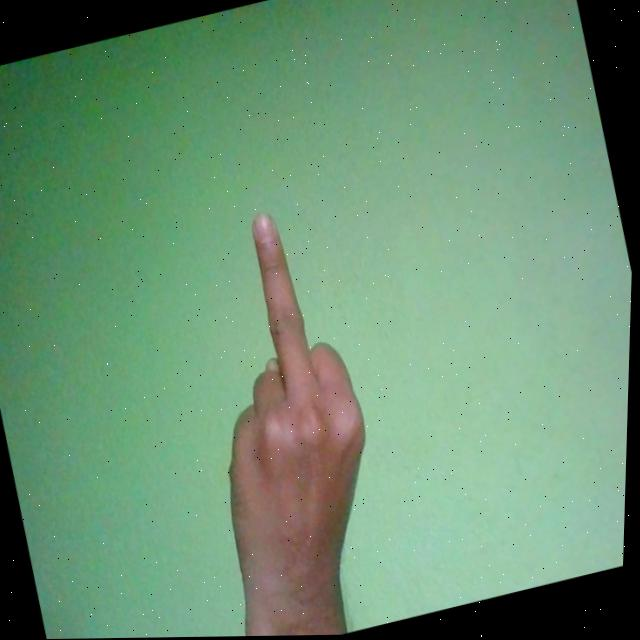Middle Finger: (162, 194, 416, 638)
